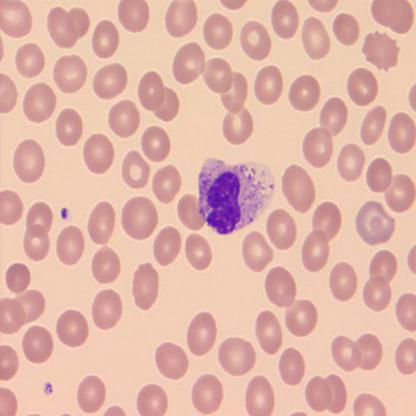Metamyelocyte: (193, 154, 276, 237)
